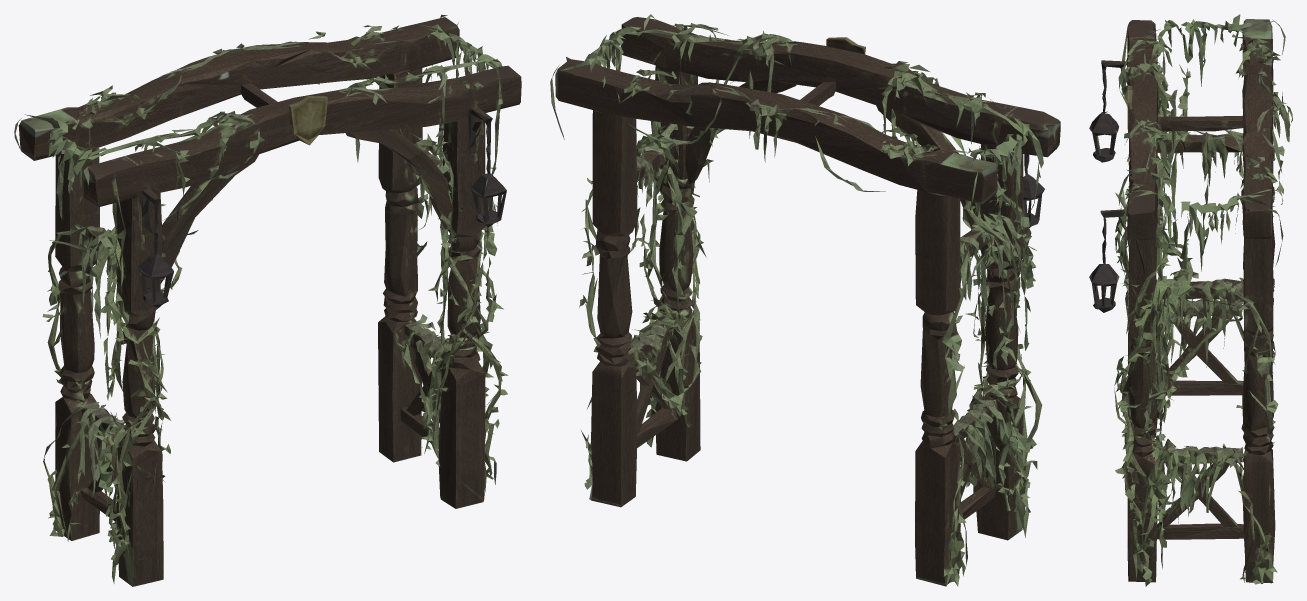
File: photoarch.glb
3 views of the same model, side by side, from view 1: azimuth 30°, elevation 25°; view 2: azimuth 150°, elevation 25°; view 3: azimuth 270°, elevation 25° (orthographic). The views are drawn at different scales.
Visible parts, largest first — view 1: Mesh_0; view 2: Mesh_0; view 3: Mesh_0.
Boxes of the visible parts, x1,y1,x2,y2 form: Mesh_0: (14, 14, 521, 586); Mesh_0: (550, 14, 1060, 586); Mesh_0: (1089, 14, 1292, 586).
Size of the model in its own units: 1.86 by 1.82 by 0.8109.
1 material, 1 textured.
